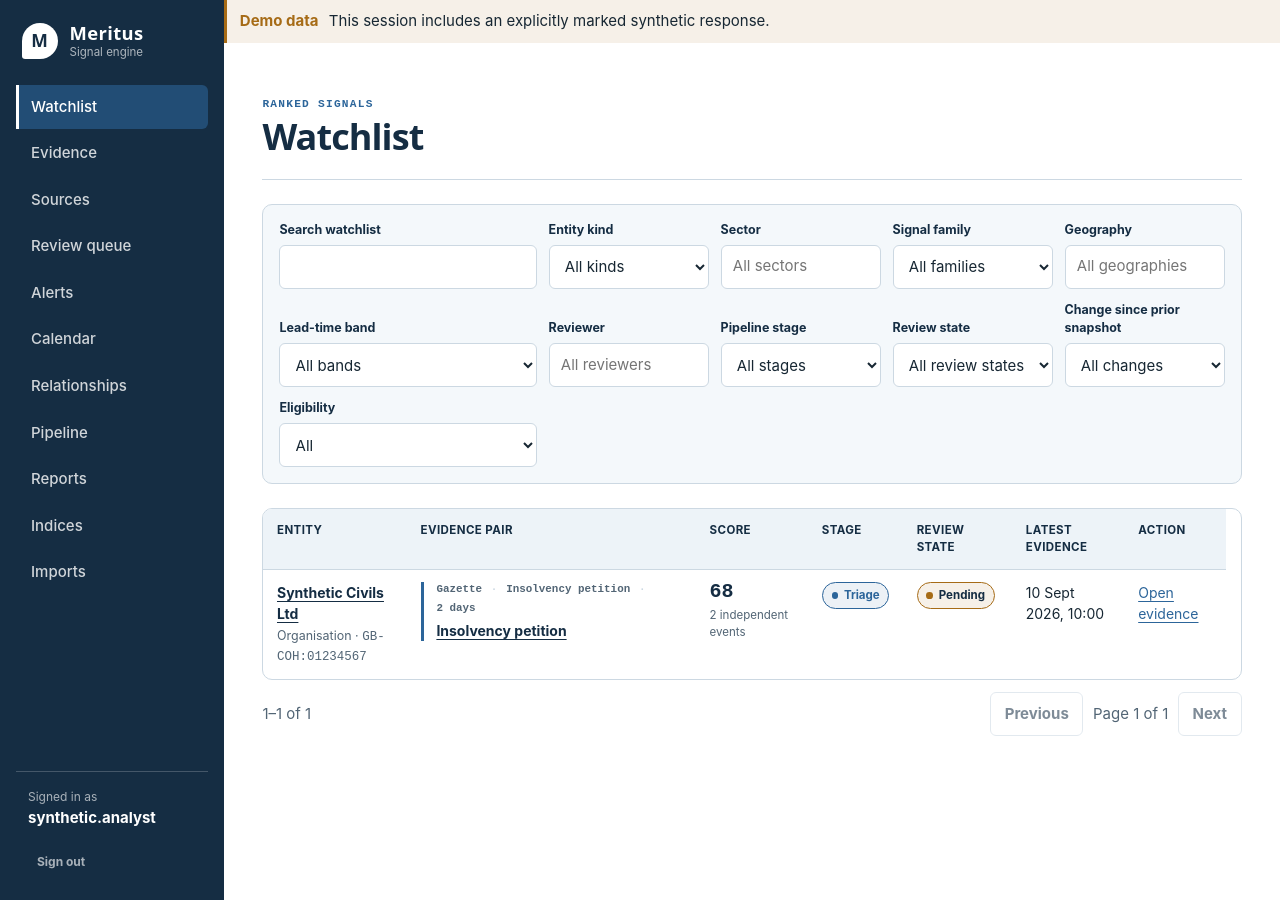
Test: analyst desk interactions › shows ingestion run dependency failures instead of claiming no run
Step 1. Click the link "Sources" → click(60, 199), box [31, 190, 90, 209]
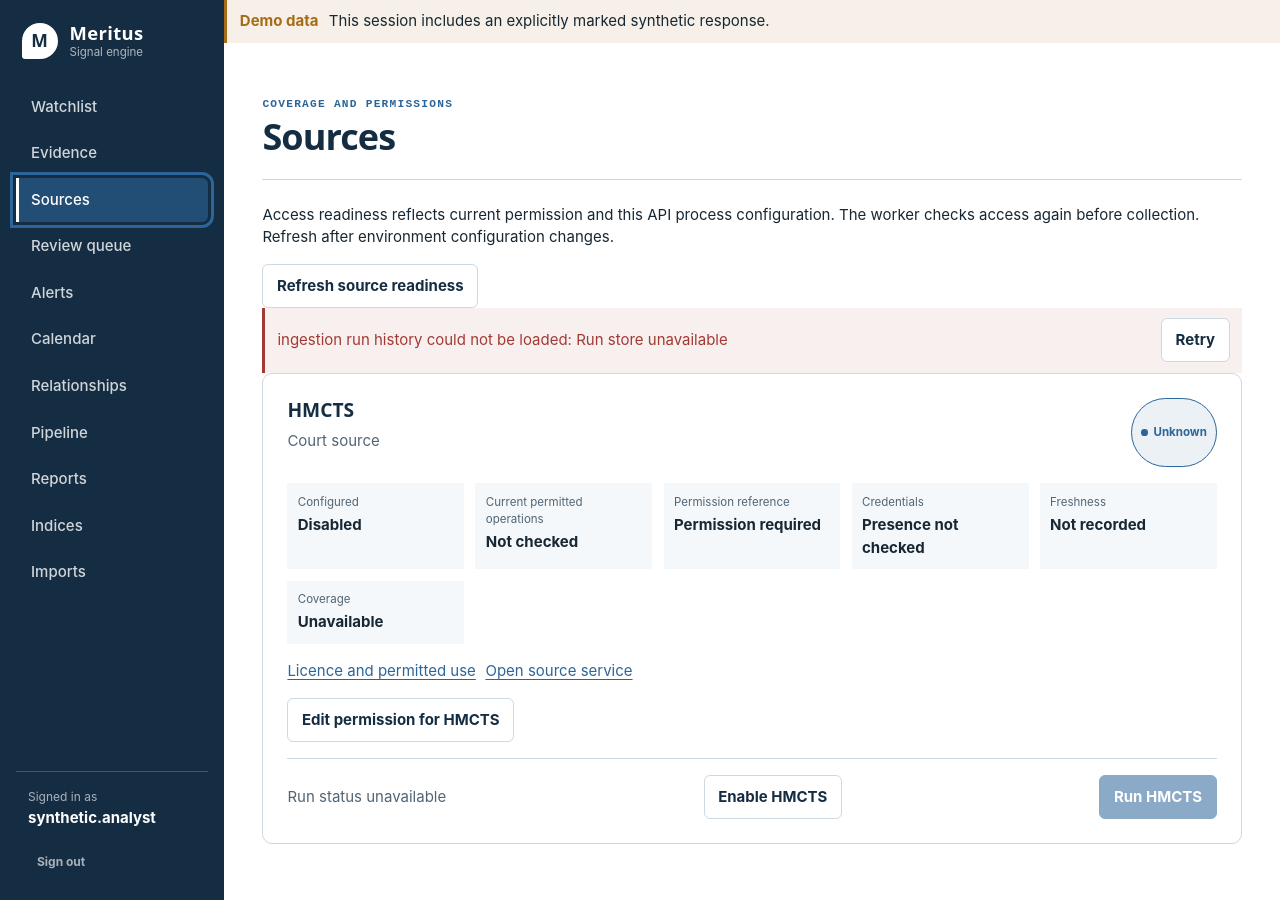
Expected: the text "ingestion run history could not be loaded: Run store unavailable" is shown, [277, 329, 728, 352]
Expected: the text "Run status unavailable" is shown, [287, 786, 446, 808]
Expected: the text "Coverage" is shown, [298, 592, 350, 606]
